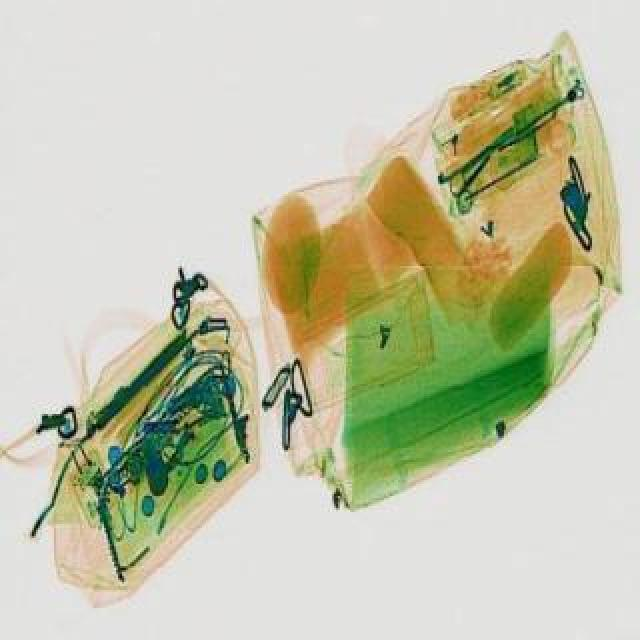pliers: (436, 132, 514, 212)
